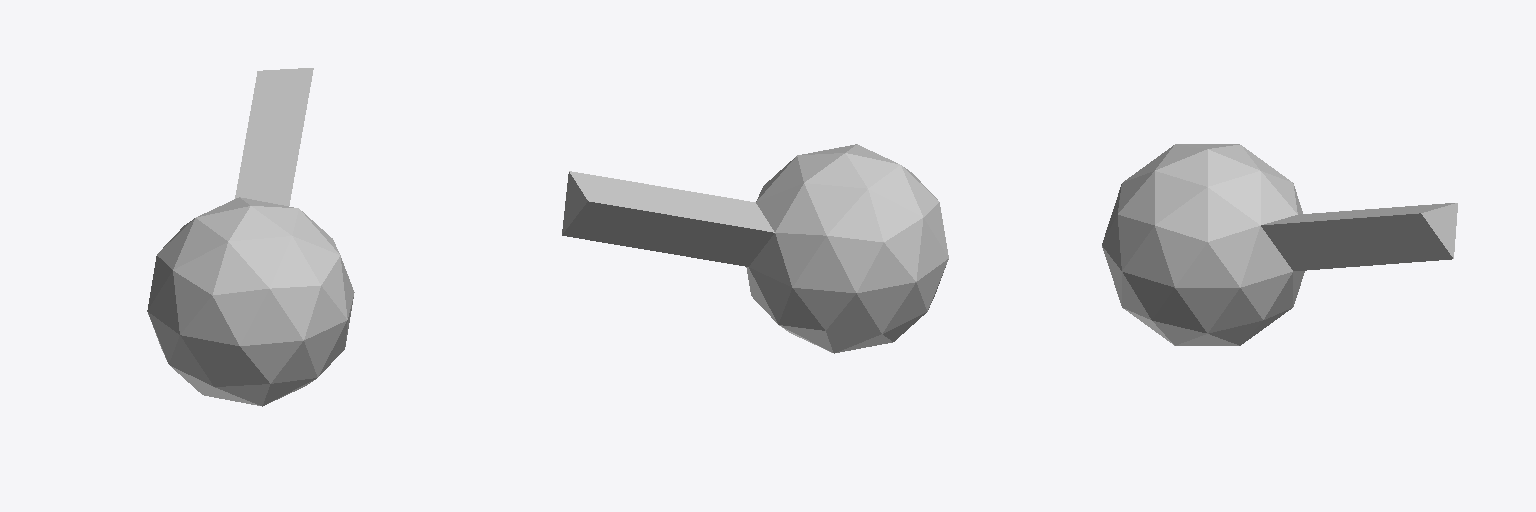
The model's file is weird_sphere.obj.
3 views of the same model, side by side, from view 1: azimuth 30°, elevation 25°; view 2: azimuth 150°, elevation 25°; view 3: azimuth 270°, elevation 25° (orthographic).
Visible parts, largest first — view 1: Icosphere; view 2: Icosphere; view 3: Icosphere.
Part boxes in pixels (x1,y1,x2,y2): Icosphere: (147,68,354,406); Icosphere: (562,144,948,353); Icosphere: (1102,144,1457,345).
Bounding box in the file's own units: 2.8 × 2.19 × 3.37.